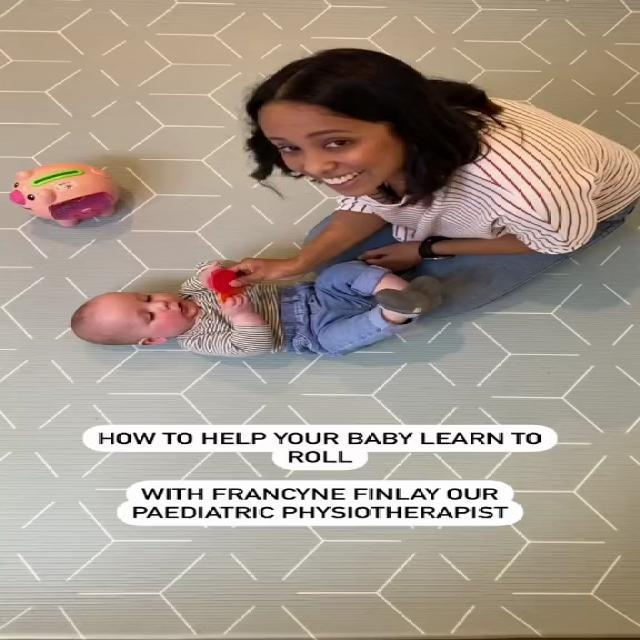baby: (64, 256, 456, 366)
